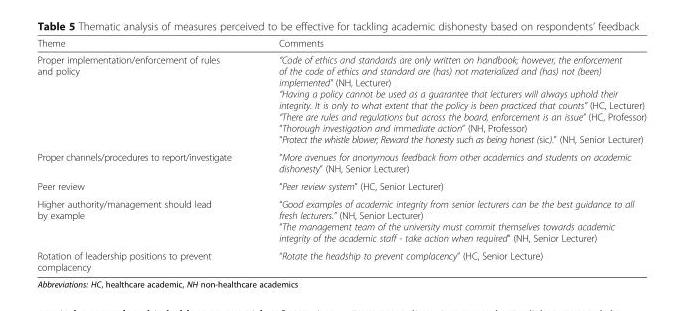table: (36, 37, 645, 272)
table column: (254, 37, 645, 272), (36, 37, 254, 272)
table column header: (36, 37, 645, 51)
table row: (36, 51, 645, 147), (36, 194, 645, 246), (36, 147, 645, 176), (36, 246, 645, 272), (36, 176, 645, 194), (36, 37, 645, 51)
